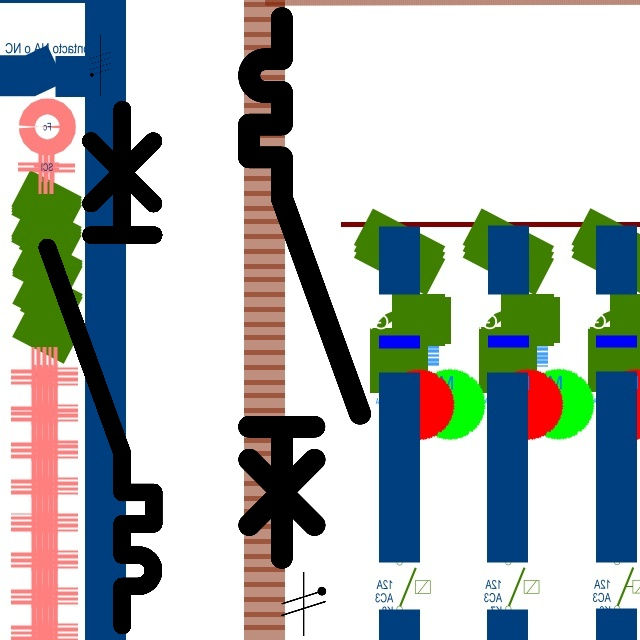interruptor_termomagnetico: (235, 4, 374, 572), (34, 96, 167, 639)
